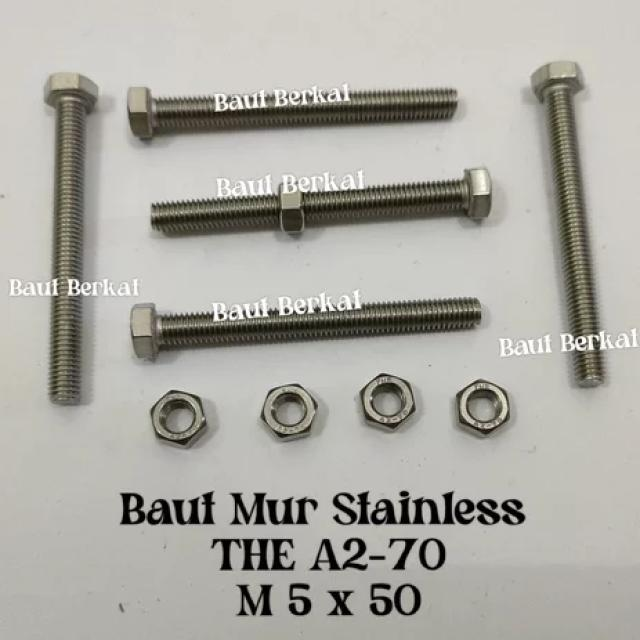Logam: (131, 353, 539, 463), (117, 274, 595, 365), (518, 22, 623, 422), (121, 160, 544, 256), (128, 58, 514, 158), (22, 40, 122, 381)
